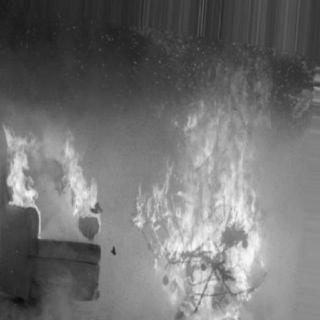Fire: (130, 110, 266, 312), (0, 116, 108, 240)
